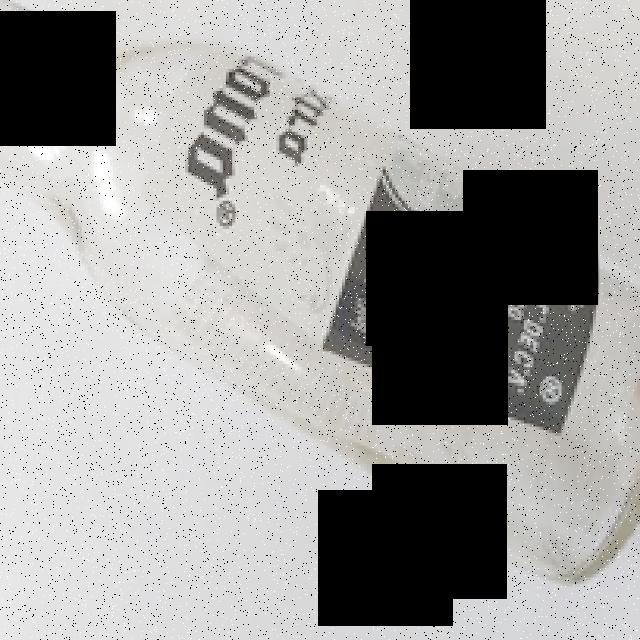glass-bottle: (1, 1, 640, 585)
